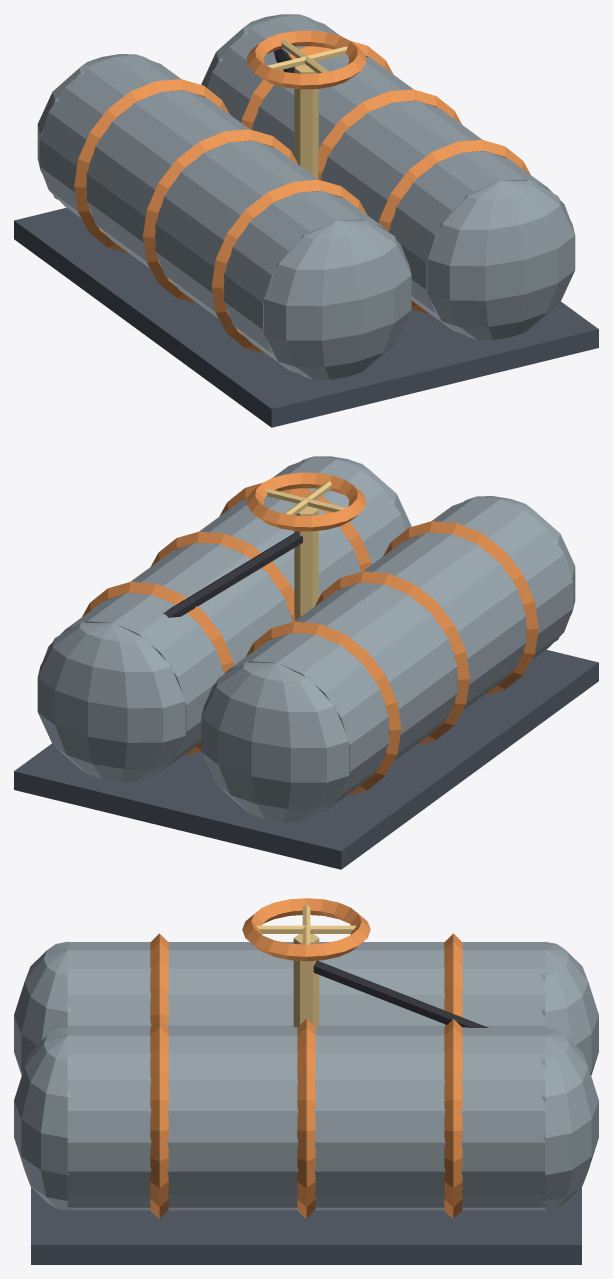
File: sub_ballast_tank.glb
3 renders of one model, top to bottom at view 1: azimuth 30°, elevation 25°; view 2: azimuth 150°, elevation 25°; view 3: azimuth 270°, elevation 25°, orthographic. The views are drawn at different scales.
Parts seen in each view (by area): view 1: sub_ballast_tank_hull, sub_ballast_tank_dark, sub_ballast_tank_accent, sub_ballast_tank_brass; view 2: sub_ballast_tank_hull, sub_ballast_tank_dark, sub_ballast_tank_accent, sub_ballast_tank_brass, sub_ballast_tank_rubber; view 3: sub_ballast_tank_hull, sub_ballast_tank_dark, sub_ballast_tank_accent, sub_ballast_tank_brass, sub_ballast_tank_rubber.
Part boxes in pixels (box(x1,y1,x2,y2)): sub_ballast_tank_hull: box(37, 14, 575, 379); sub_ballast_tank_dark: box(14, 207, 598, 427); sub_ballast_tank_accent: box(74, 30, 530, 352); sub_ballast_tank_brass: box(267, 39, 347, 178); sub_ballast_tank_hull: box(37, 456, 575, 821); sub_ballast_tank_dark: box(14, 649, 598, 869); sub_ballast_tank_accent: box(82, 472, 538, 794); sub_ballast_tank_brass: box(265, 481, 345, 620); sub_ballast_tank_rubber: box(163, 532, 302, 617); sub_ballast_tank_hull: box(14, 941, 598, 1210); sub_ballast_tank_dark: box(31, 1187, 581, 1264); sub_ballast_tank_accent: box(150, 898, 462, 1218); sub_ballast_tank_brass: box(256, 904, 356, 1027); sub_ballast_tank_rubber: box(313, 960, 488, 1027).
Bounding box in the file's own units: 2.2 × 1.55 × 3.18.
